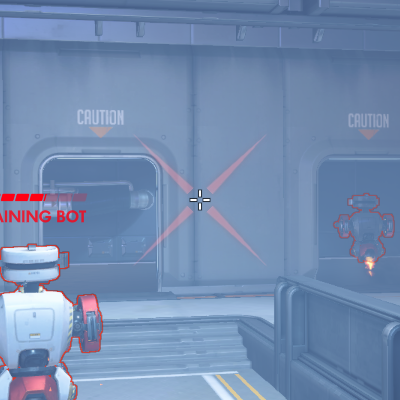hpbar: (1, 192, 88, 202)
